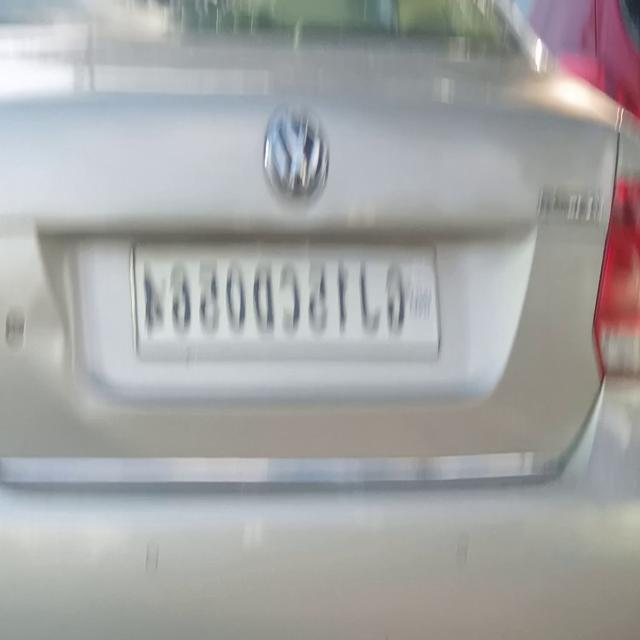license_plate: (124, 228, 450, 375)
